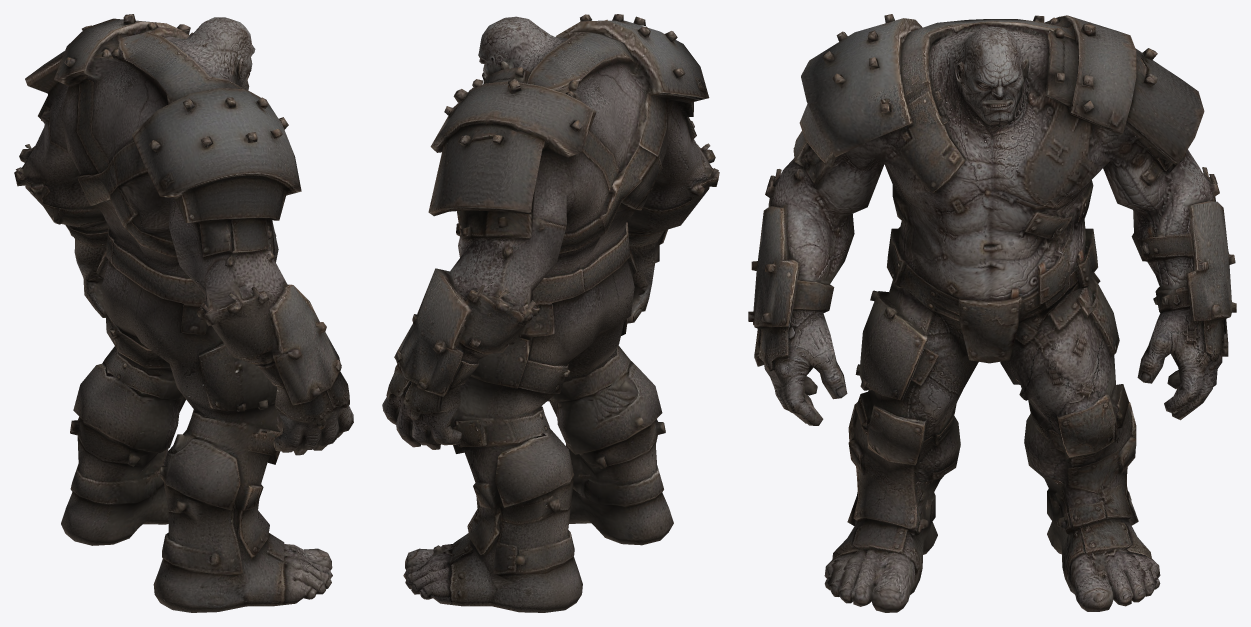
Rendered from tripo_convert_0df6e508-e294-4002-b44c-4e917d6e50d1.fbx.
The picture shows the model from 3 angles, left to right: view 1: azimuth 30°, elevation 25°; view 2: azimuth 150°, elevation 25°; view 3: azimuth 270°, elevation 25°; orthographic projection. The views are drawn at different scales.
Visible parts, largest first — view 1: tripo_node_0df6e508; view 2: tripo_node_0df6e508; view 3: tripo_node_0df6e508.
Part boxes in pixels (x1=…): tripo_node_0df6e508: x1=14, y1=14, x2=353, y2=612; tripo_node_0df6e508: x1=382, y1=14, x2=719, y2=612; tripo_node_0df6e508: x1=748, y1=14, x2=1236, y2=612.
Bounding box in the file's own units: 0.373 × 0.998 × 0.7988.
1 material, 1 textured.
